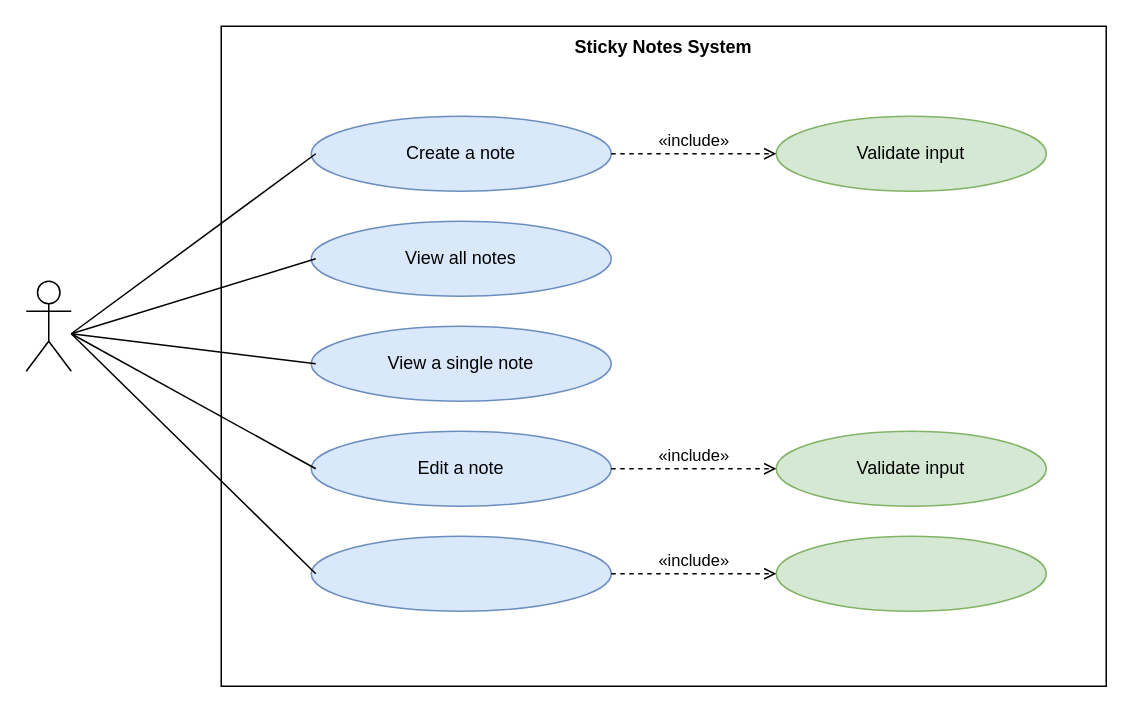
This 1133x713 diagram has some shape labels left out. Each missing label, with the centre of its shape:
"Confirm deletion" belongs at pixel 910 573.
"Delete a note" belongs at pixel 460 573.
"User" belongs at pixel 48 325.
